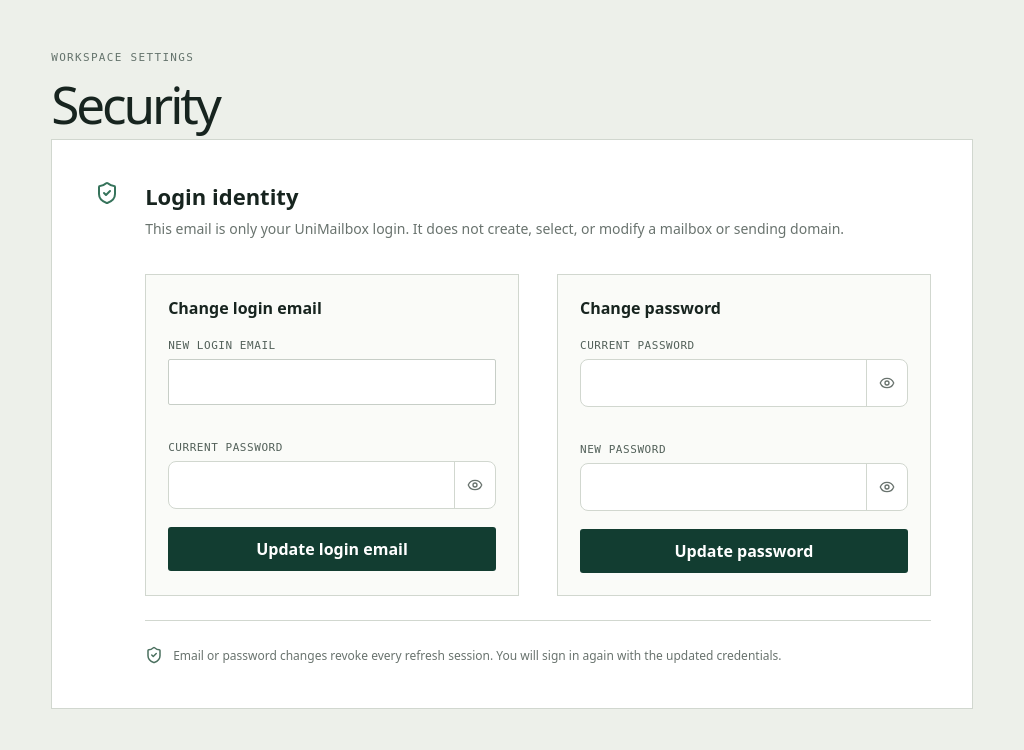
authenticated settings › shows localized validation before sending an invalid account update
Click the button "Update login email".
click(332, 549)  # box [168,527,496,571]
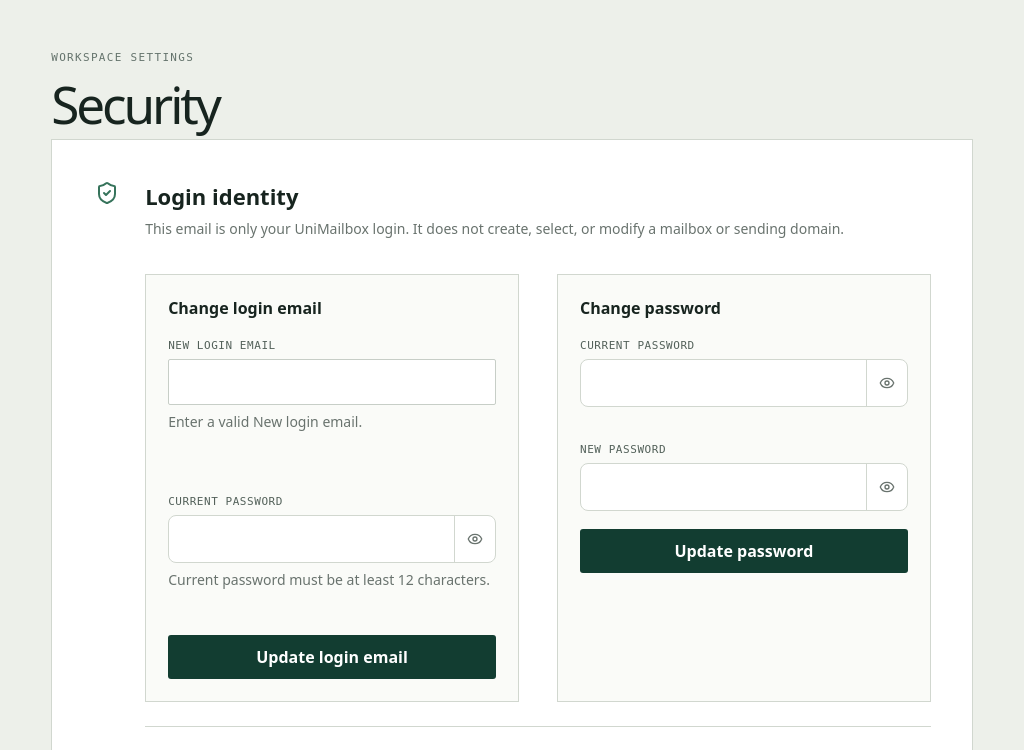
Check: the text "Enter a valid New login email." is shown, box [168,412,362,431]
